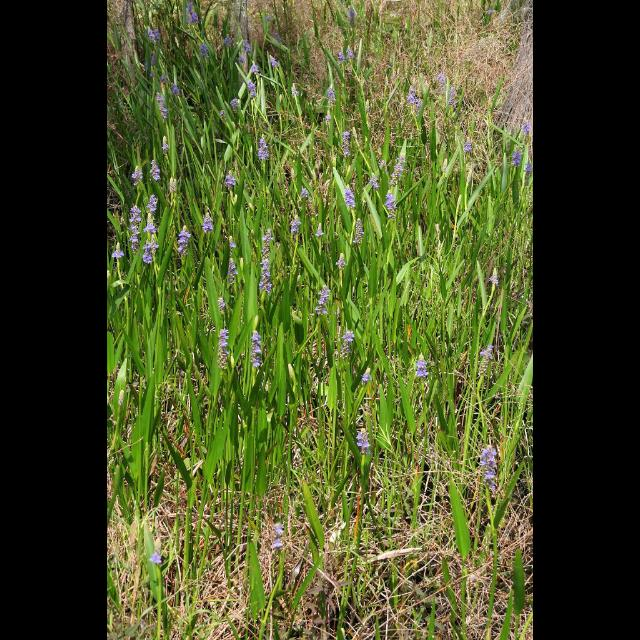Flower: (115, 6, 533, 314), (478, 447, 498, 477), (314, 286, 332, 316), (412, 355, 432, 381), (176, 224, 194, 252), (247, 332, 265, 360), (478, 346, 492, 376), (147, 542, 165, 562), (354, 430, 370, 450), (338, 330, 352, 350), (221, 332, 229, 360), (272, 522, 282, 542), (361, 366, 372, 382)
